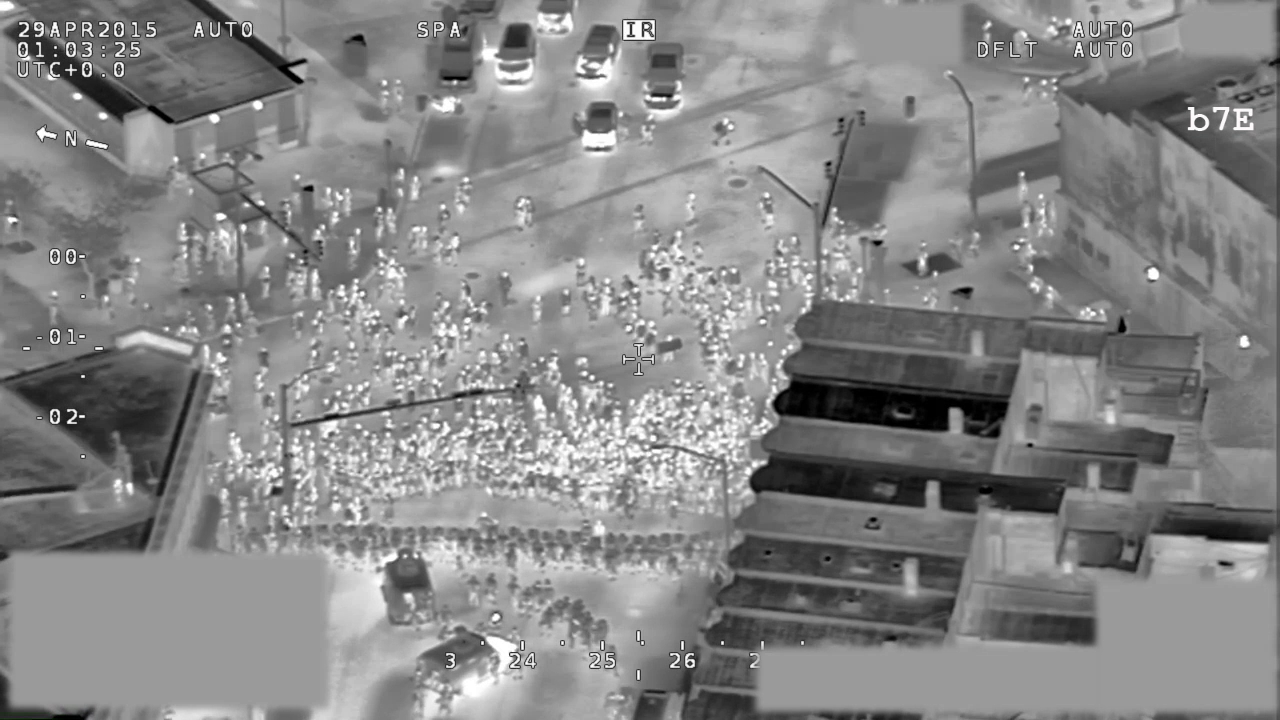vehicle: (412, 622, 525, 705), (377, 548, 443, 627), (636, 38, 687, 116), (437, 4, 479, 98), (492, 19, 539, 91), (571, 22, 622, 86), (577, 96, 624, 158), (533, 1, 578, 40)
